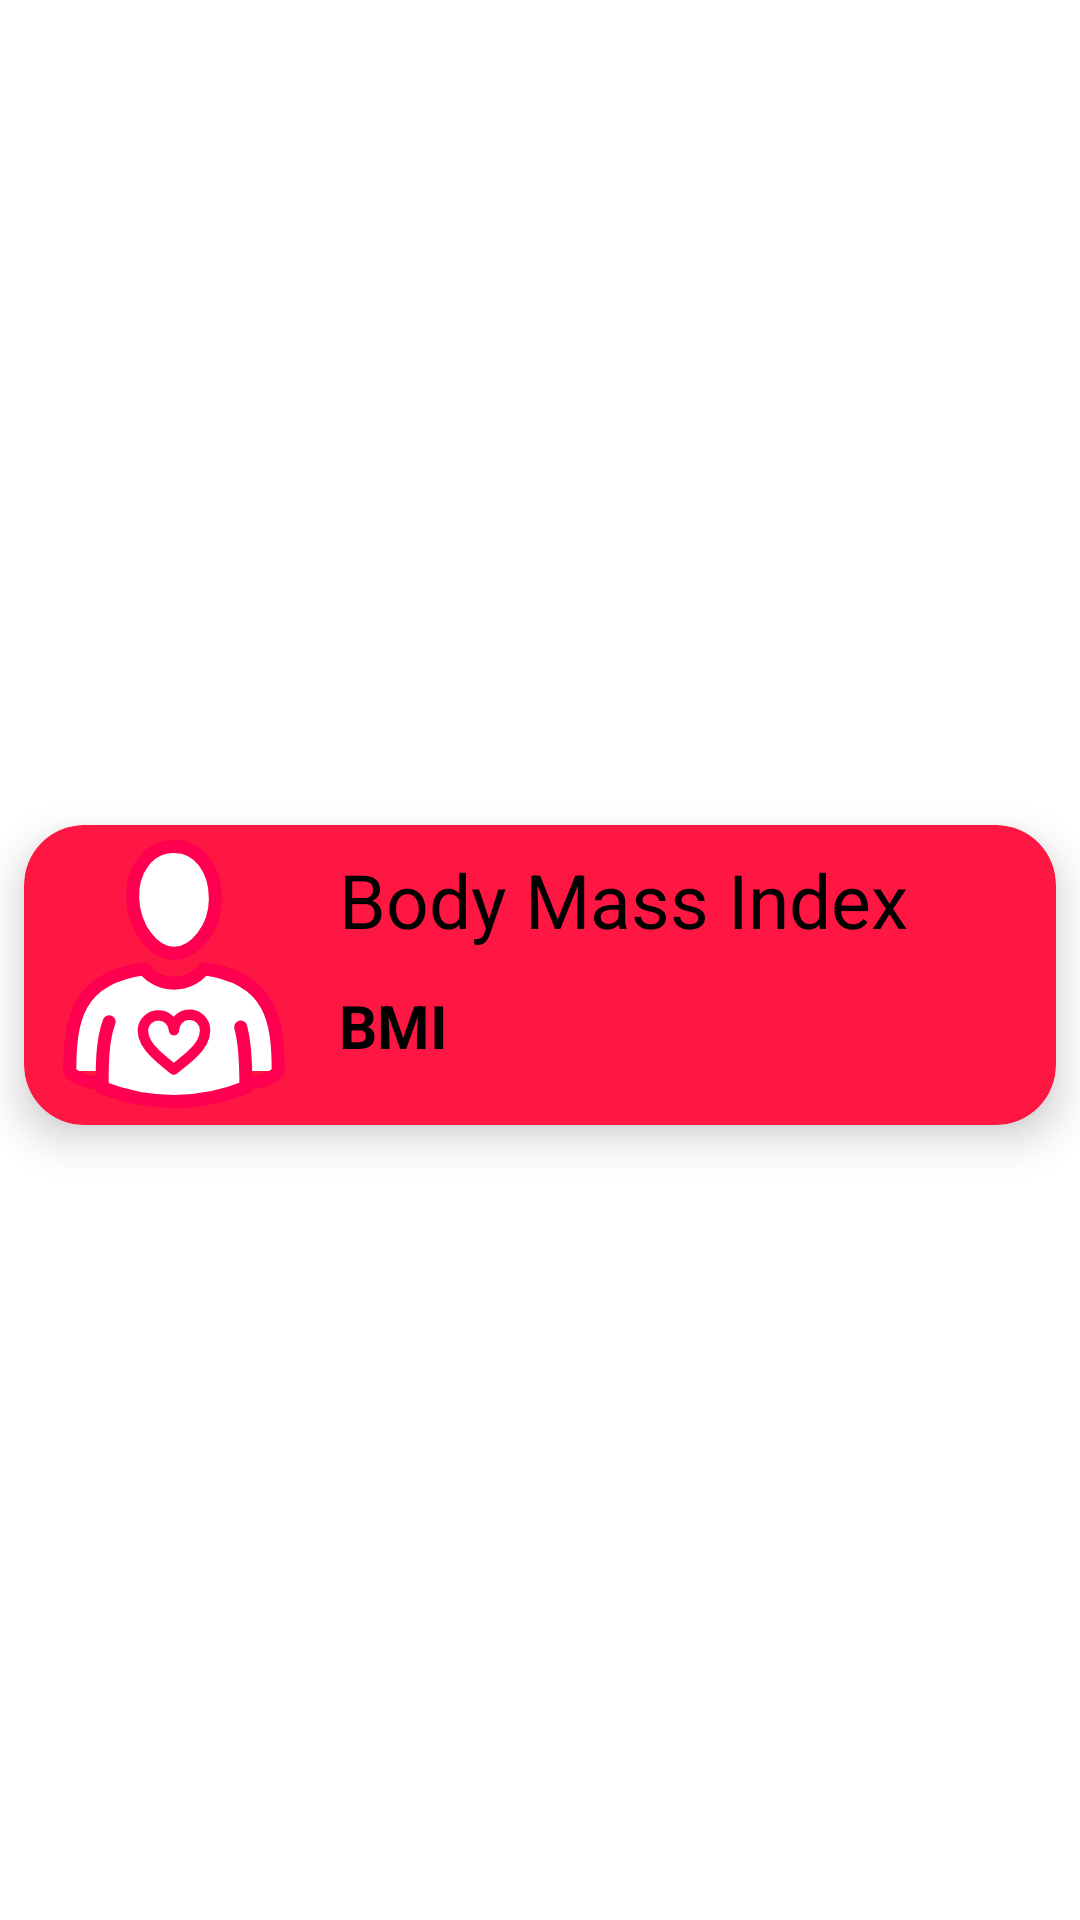

Screen size 1080*1920. Icon name, then its center in pixels as [x,y]:
health: [174,975]
